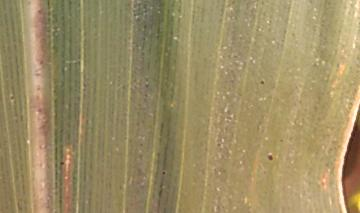tarspot: (266, 151, 276, 163), (255, 78, 267, 87), (57, 158, 65, 169)
